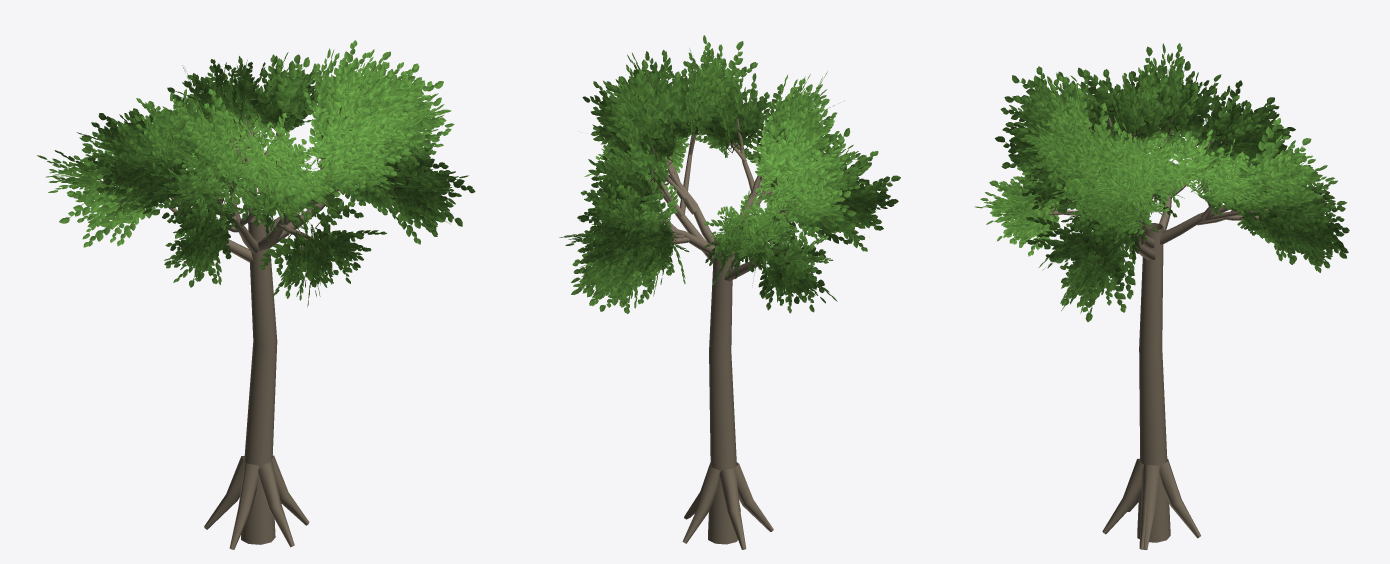
Rendered from jungle_tree_2.glb.
3 renders of one model, left to right at view 1: azimuth 30°, elevation 25°; view 2: azimuth 150°, elevation 25°; view 3: azimuth 270°, elevation 25°, orthographic. The views are drawn at different scales.
Visible parts, largest first — view 1: jungle_tree_2; view 2: jungle_tree_2; view 3: jungle_tree_2.
Boxes of the visible parts, x1,y1,x2,y2 form: jungle_tree_2: (37, 40, 475, 549); jungle_tree_2: (559, 35, 900, 549); jungle_tree_2: (975, 43, 1349, 549).
Bounding box in the file's own units: 13.36 × 17.55 × 13.42.
2 materials, 1 textured.
